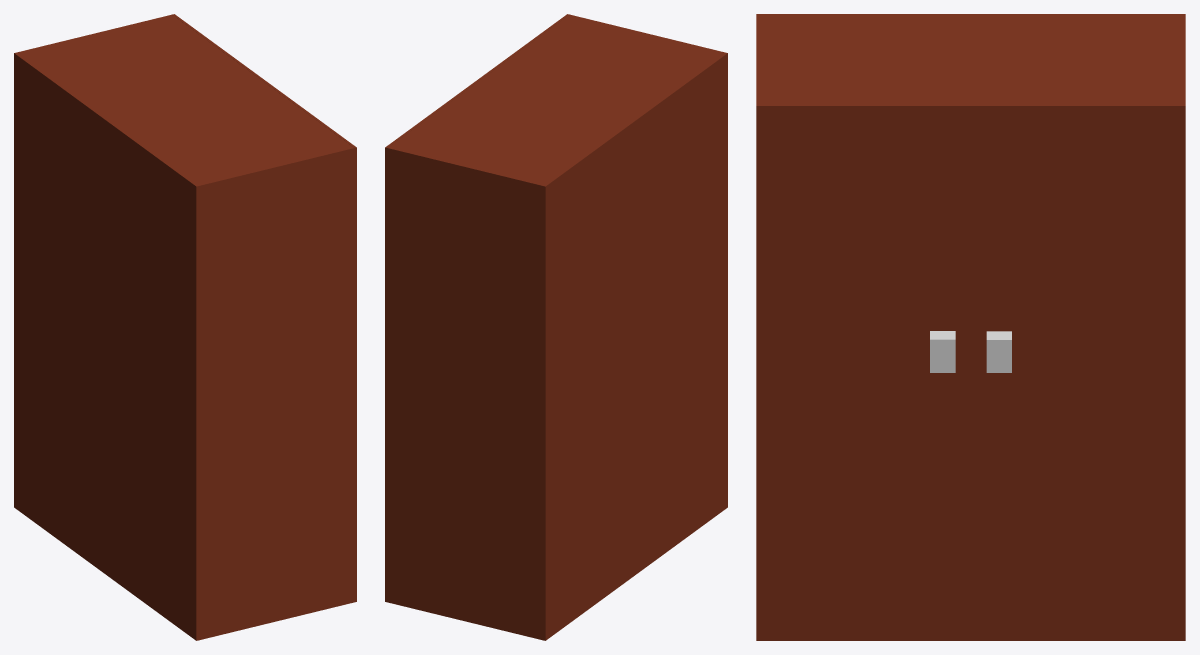
File: WardrobeDoubleDoor.fbx
3 renders of one model, left to right at view 1: azimuth 30°, elevation 25°; view 2: azimuth 150°, elevation 25°; view 3: azimuth 270°, elevation 25°, orthographic. The views are drawn at different scales.
Visible parts, largest first — view 1: WardrobeDoubleDoor, WardrobeDoubleDoor_Door2; view 2: WardrobeDoubleDoor, WardrobeDoubleDoor_Door; view 3: WardrobeDoubleDoor_Door2, WardrobeDoubleDoor_Door, WardrobeDoubleDoor.
Boxes of the visible parts, bbox=[...] form: WardrobeDoubleDoor: bbox=[14, 14, 354, 640]; WardrobeDoubleDoor_Door2: bbox=[263, 81, 356, 602]; WardrobeDoubleDoor: bbox=[387, 14, 727, 640]; WardrobeDoubleDoor_Door: bbox=[385, 81, 478, 602]; WardrobeDoubleDoor_Door2: bbox=[756, 104, 970, 640]; WardrobeDoubleDoor_Door: bbox=[971, 104, 1185, 640]; WardrobeDoubleDoor: bbox=[756, 14, 1185, 104].
Size of the model in its own units: 445 by 1100 by 800.
